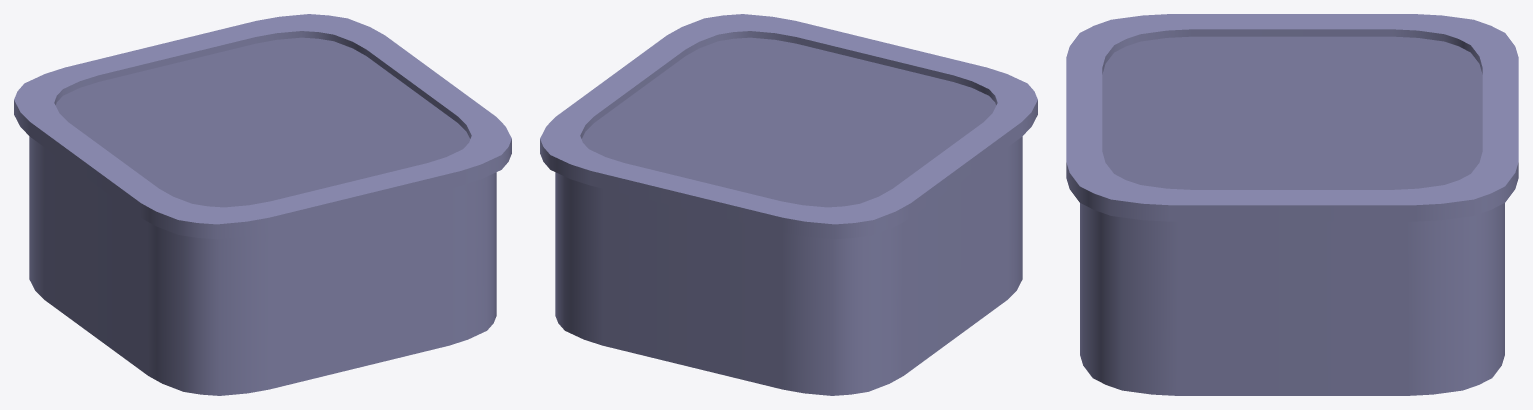
Rendered from Wall_Solo.fbx.
3 renders of one model, left to right at view 1: azimuth 30°, elevation 25°; view 2: azimuth 150°, elevation 25°; view 3: azimuth 270°, elevation 25°, orthographic. The views are drawn at different scales.
Visible parts, largest first — view 1: Wall_Solo; view 2: Wall_Solo; view 3: Wall_Solo.
Part boxes in pixels (x1=…): Wall_Solo: x1=14, y1=14, x2=511, y2=395; Wall_Solo: x1=540, y1=14, x2=1037, y2=395; Wall_Solo: x1=1066, y1=14, x2=1518, y2=395.
Bounding box in the file's own units: 213 × 102 × 213.
